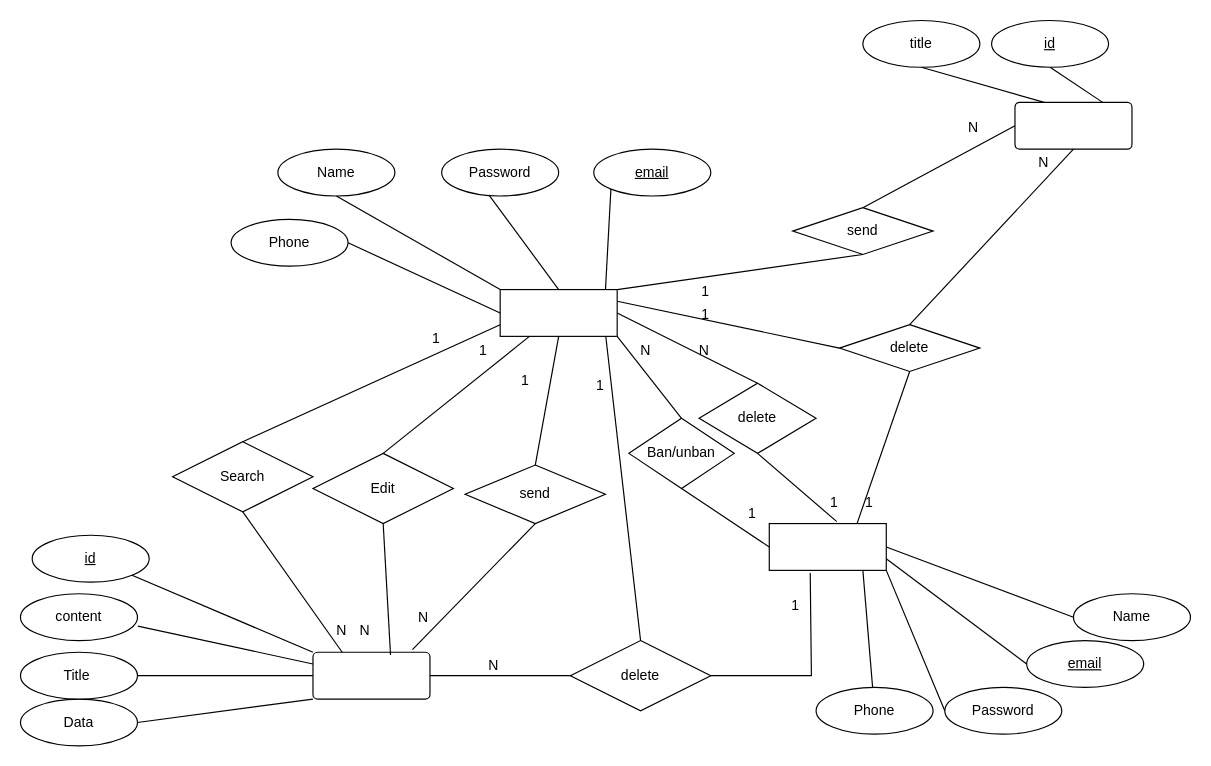
The diagram is 1211 pixels wide and 766 high, and some of its shapes have lost their labels. The shapes that lost their labels are listed below. From the top down, each one's centre as x and y in pixels, then its label:
the point at 1073,125: image
the point at 558,312: User
the point at 827,546: Admin
the point at 371,675: Messages
